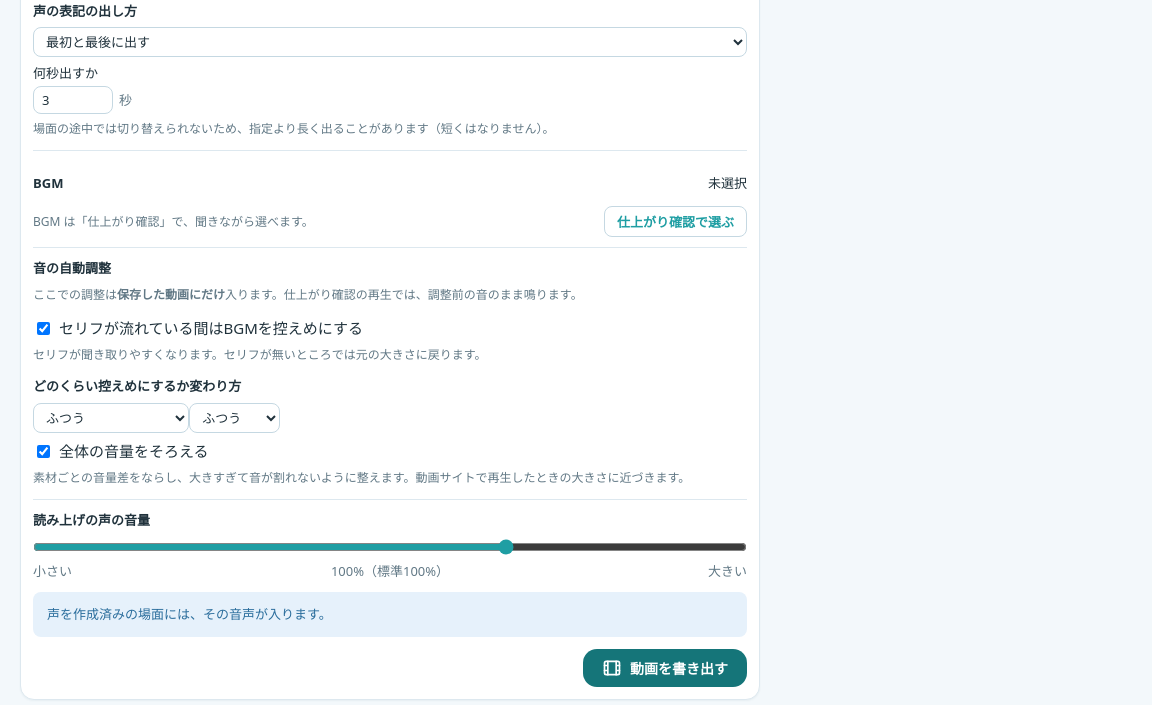
Test: ExportScreen 取り込み中は書き出しを始めない（#570 P1・相互排他） › 動画案生成中（status='generating'）は書き出しを始めない（#570 P1 レビュー・生成中分岐）
(page scrolled)
Click the button "動画を書き出す".
click(665, 668)  # box [583, 649, 747, 687]
(page scrolled)
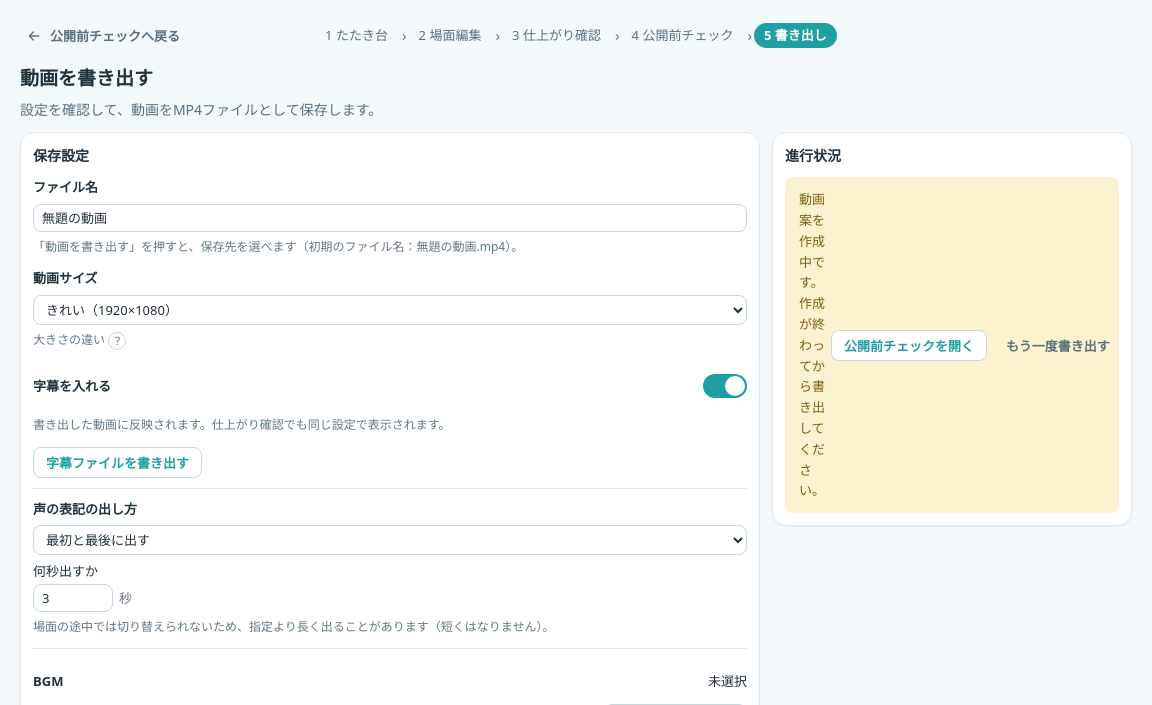
Result: the text "動画案を作成中です。作成が終わってから書き出してください。" is shown at [799, 189, 825, 501]
